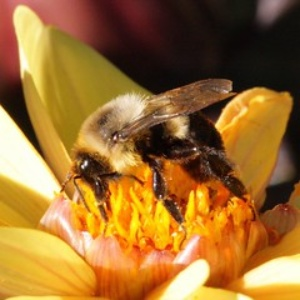bee: (60, 79, 250, 231)
